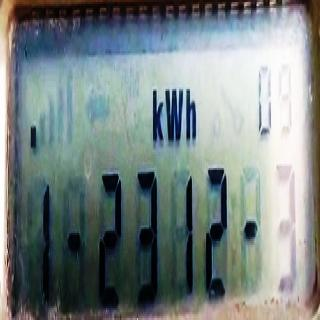-: (244, 211, 258, 247), (29, 120, 37, 152)
0: (255, 54, 275, 148)
1: (180, 164, 200, 302), (40, 178, 56, 317)
2: (95, 163, 125, 315), (204, 156, 230, 310)
3: (133, 158, 165, 311), (272, 156, 302, 306)
9: (276, 52, 294, 143)
